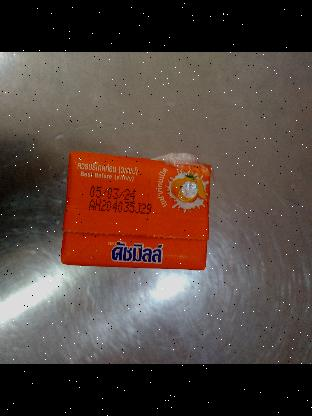Others: (46, 146, 218, 280)
